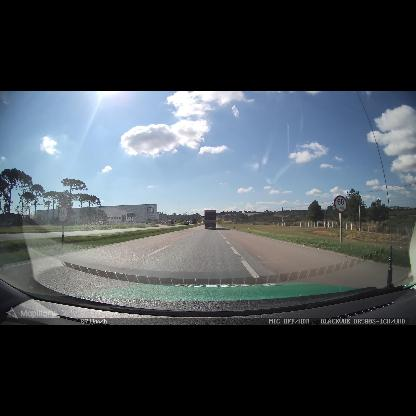R-19: (334, 195, 348, 213), (58, 206, 68, 223)
